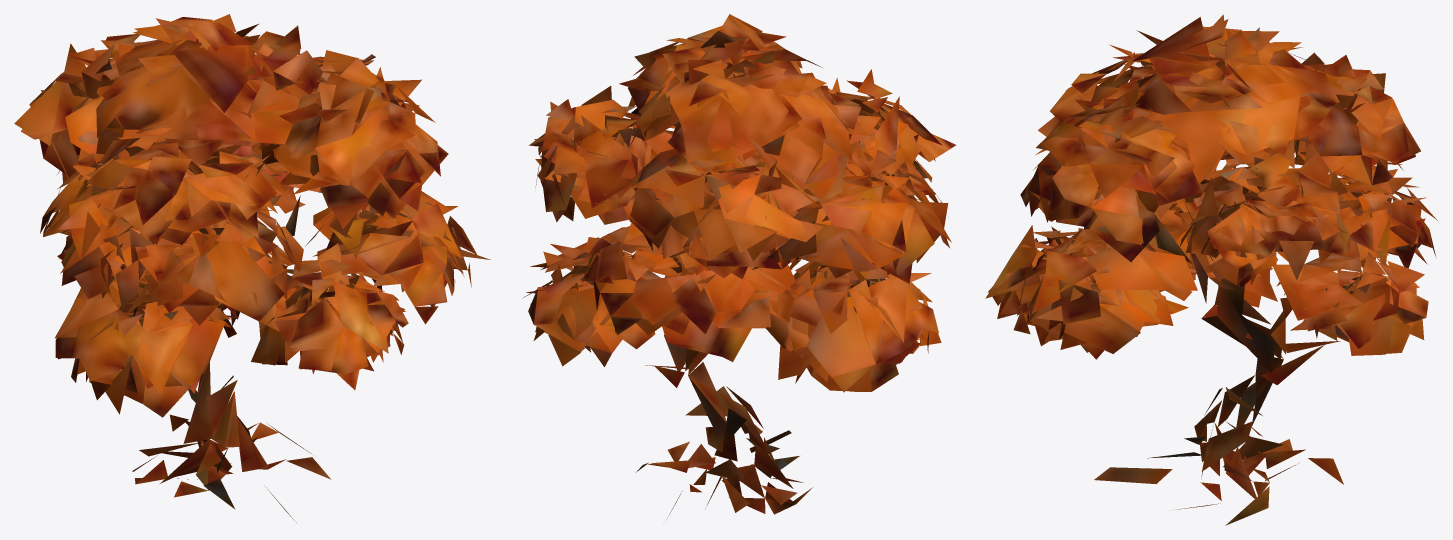
File: maple.glb
3 views of the same model, side by side, from view 1: azimuth 30°, elevation 25°; view 2: azimuth 150°, elevation 25°; view 3: azimuth 270°, elevation 25° (orthographic). The views are drawn at different scales.
Parts seen in each view (by area): view 1: Mesh_0; view 2: Mesh_0; view 3: Mesh_0.
Boxes of the visible parts, x1,y1,x2,y2 form: Mesh_0: [14, 14, 490, 522]; Mesh_0: [523, 14, 956, 521]; Mesh_0: [985, 14, 1437, 525].
Bounding box in the file's own units: 1.69 × 1.96 × 1.74.
Materials: 1 (1 with a texture image).
